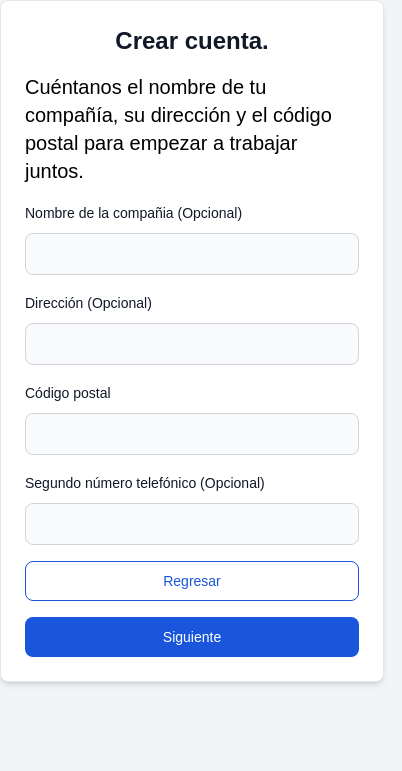
Test: CompanyDetails › shows validation error for short company name when provided
Type "A" into the field labelled "Nombre de la compañia (Opcional)".
click(192, 254); type("A")  # box [25,233,359,275]
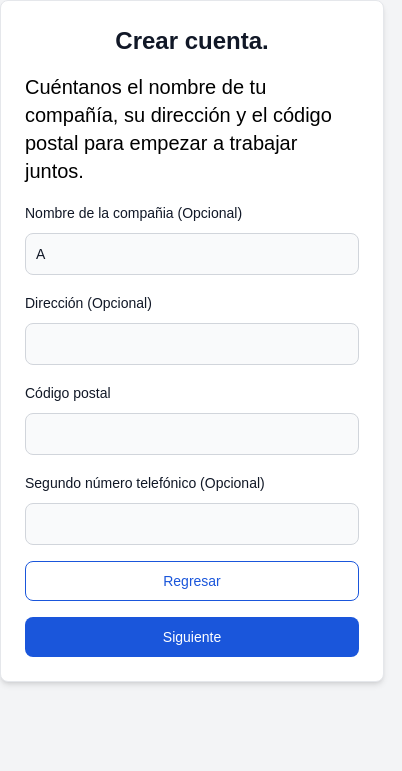
Type "1234" into the field labelled "Código postal".
click(192, 434); type("1234")  # box [25,413,359,455]
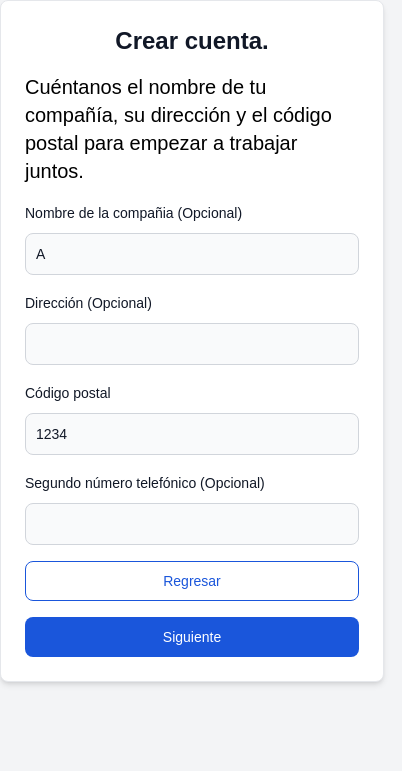
Click the button "Siguiente".
click(192, 637)  # box [25,617,359,657]
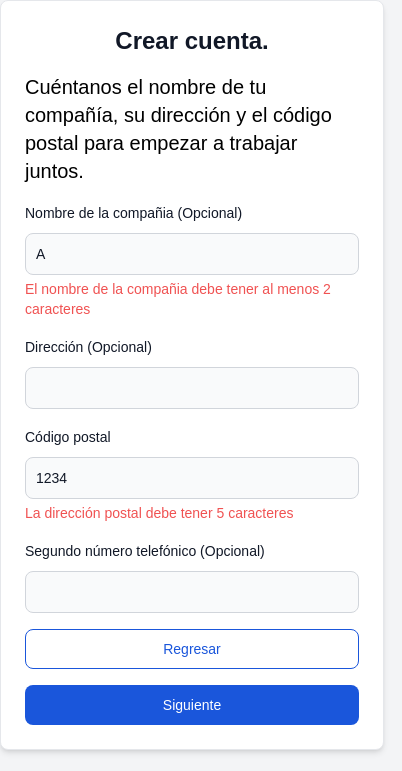
Check: the text "El nombre de la compañia debe tener al menos 2 caracteres" is shown, box [25,279,359,319]
